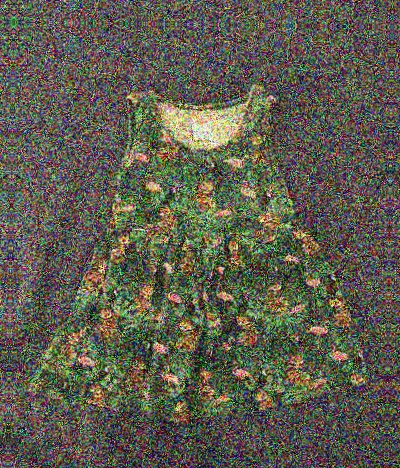Dress: (30, 78, 389, 423), (391, 83, 400, 427)
